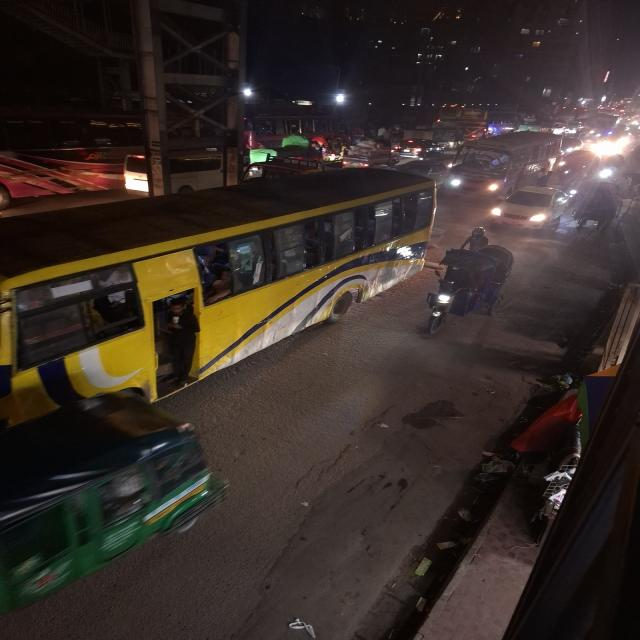bus: (0, 169, 436, 401), (445, 132, 560, 198)
car: (490, 184, 574, 232)
rickshaw: (422, 240, 518, 336)
truck: (1, 0, 257, 202)
